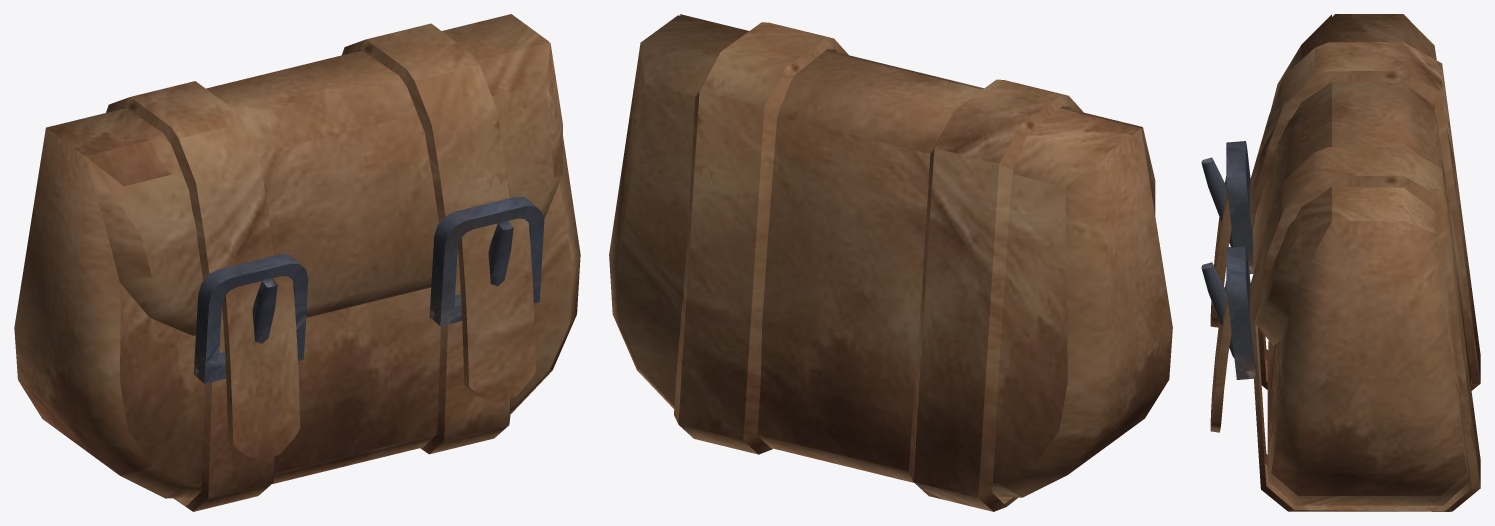
File: tr_pouch.glb
3 renders of one model, left to right at view 1: azimuth 30°, elevation 25°; view 2: azimuth 150°, elevation 25°; view 3: azimuth 270°, elevation 25°, orthographic. The views are drawn at different scales.
Visible parts, largest first — view 1: model; view 2: model; view 3: model.
Part boxes in pixels (left/top/right/bottom): model: left=14, top=14, right=580, bottom=511; model: left=609, top=14, right=1172, bottom=511; model: left=1201, top=14, right=1480, bottom=511.
Size of the model in its own units: 0.2255 by 0.1591 by 0.1198.
Materials: 2 (2 with a texture image).
